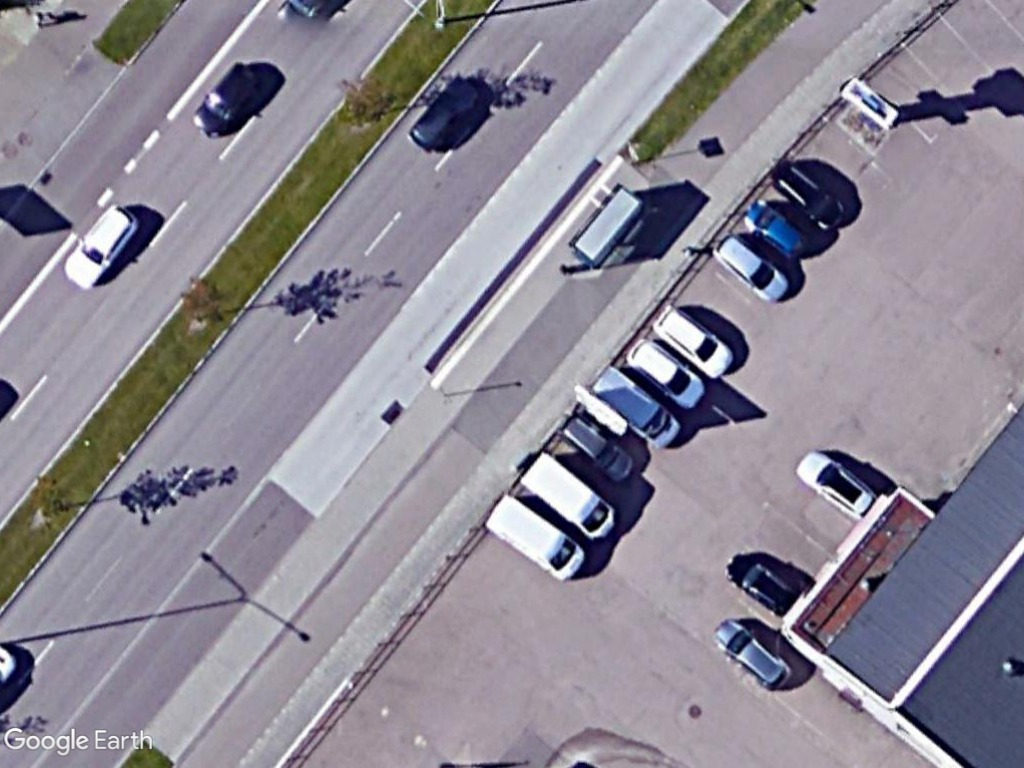car: (60, 197, 145, 294), (407, 68, 488, 156), (709, 614, 797, 695), (789, 448, 885, 521), (619, 334, 710, 411), (651, 302, 736, 382), (189, 55, 264, 143), (709, 231, 792, 307), (555, 412, 639, 485), (722, 547, 802, 616), (737, 196, 813, 262)
van: (515, 449, 623, 545), (482, 490, 589, 584), (589, 364, 684, 450)
